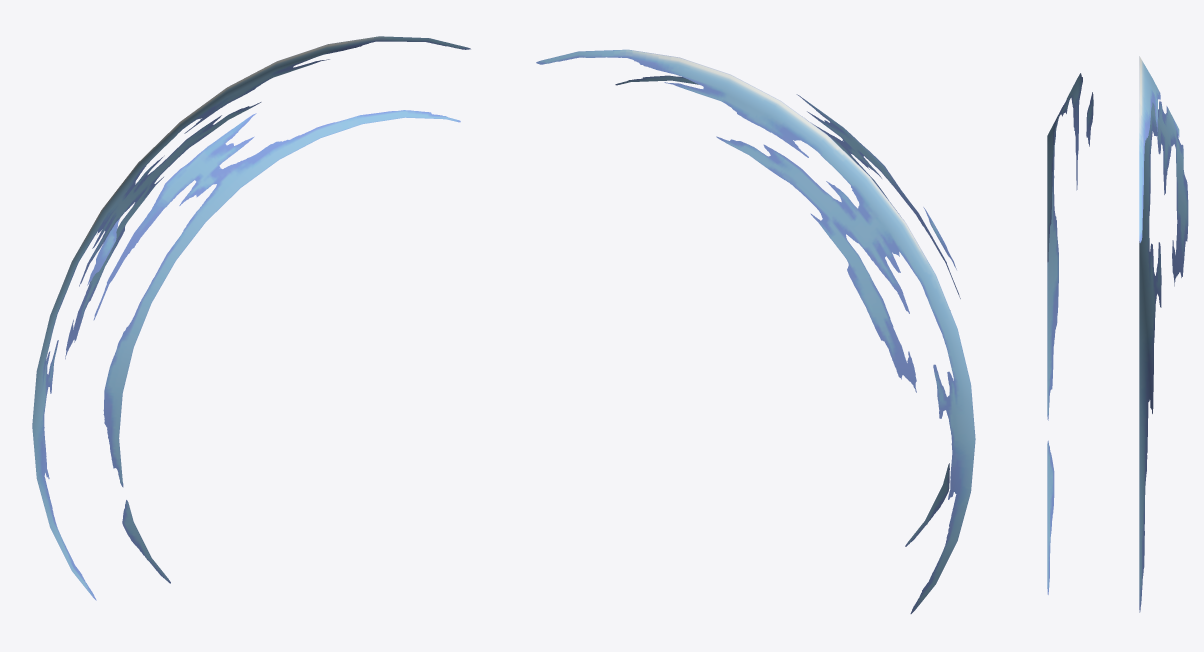
The model's file is DGG.FBX.
The picture shows the model from 3 angles, left to right: view 1: azimuth 30°, elevation 25°; view 2: azimuth 150°, elevation 25°; view 3: azimuth 270°, elevation 25°; orthographic projection. The views are drawn at different scales.
Visible parts, largest first — view 1: Cylinder001; view 2: Cylinder001; view 3: Cylinder001.
Boxes of the visible parts, <box> form: Cylinder001: <box>32,36,470,600</box>; Cylinder001: <box>536,49,975,613</box>; Cylinder001: <box>1047,56,1188,612</box>.
Bounding box in the file's own units: 81.54 × 89.3 × 16.39.
